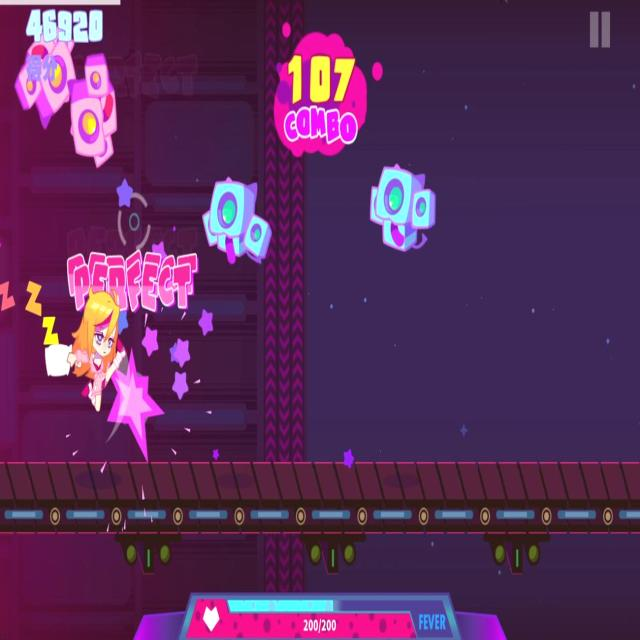jiqi: (16, 23, 78, 128), (371, 160, 438, 252), (68, 54, 120, 170), (204, 180, 274, 264)
